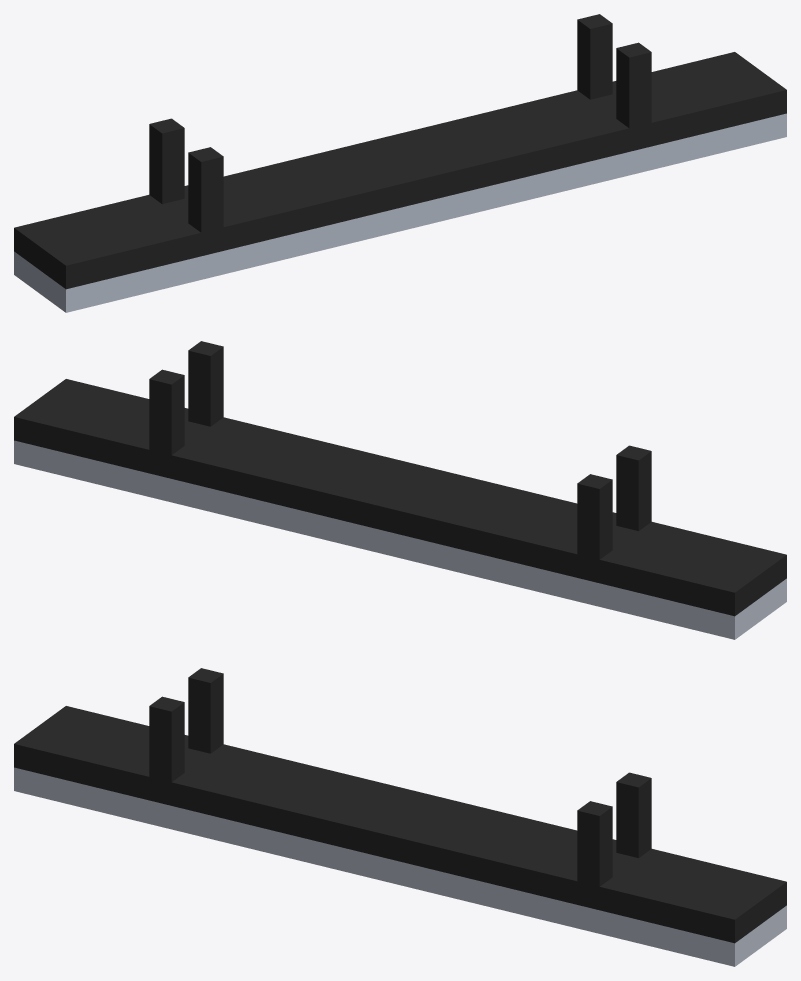
The model's file is LongHangingLight.obj.
The picture shows the model from 3 angles, top to bottom: view 1: azimuth 30°, elevation 25°; view 2: azimuth 150°, elevation 25°; view 3: azimuth 330°, elevation 25°; orthographic projection.
Size of the model in its own units: 3.2 by 0.5 by 0.4.
1 material, 1 textured.
